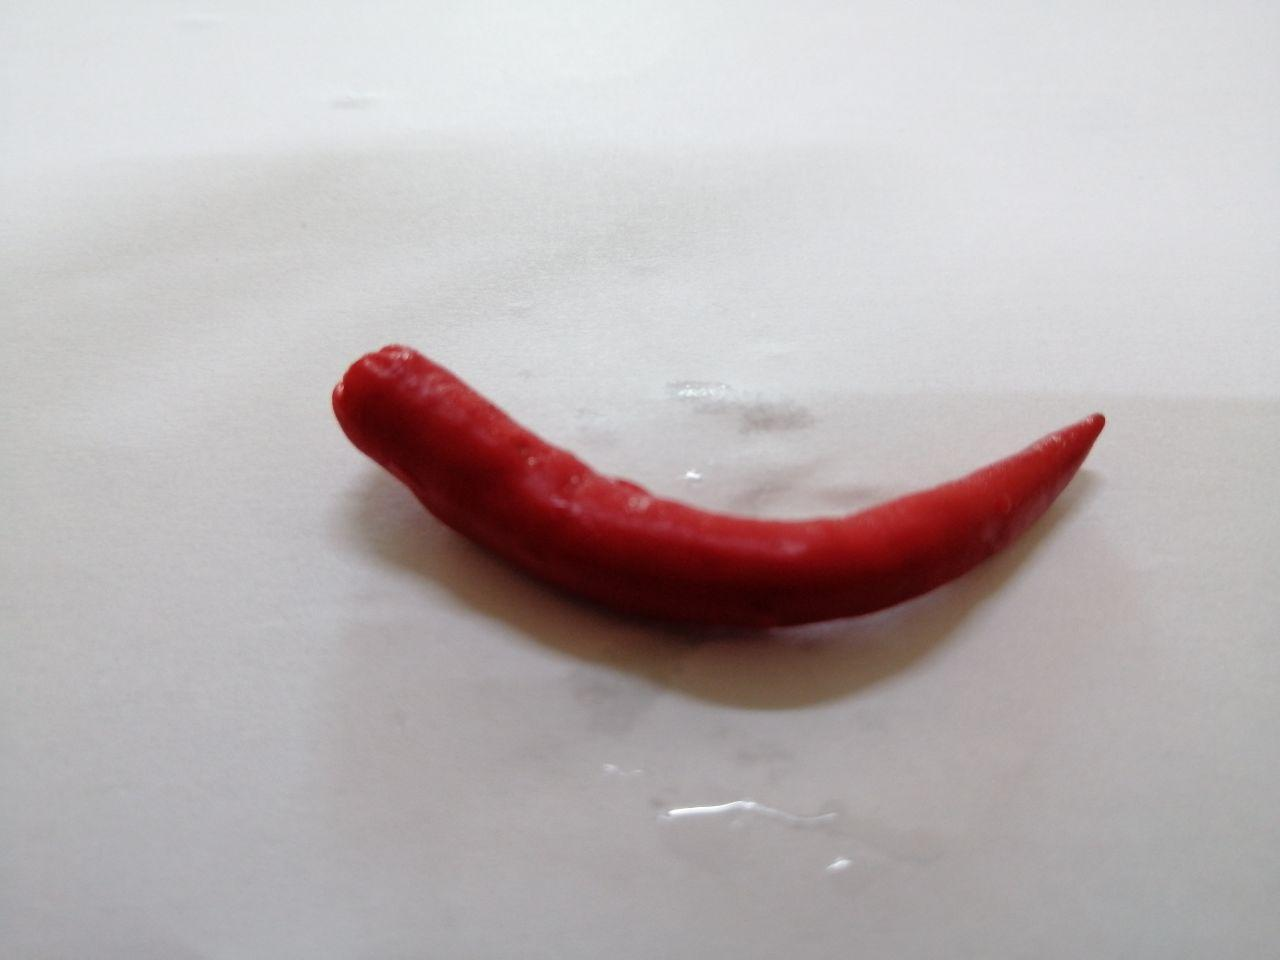lada merah: (283, 311, 1135, 668)
